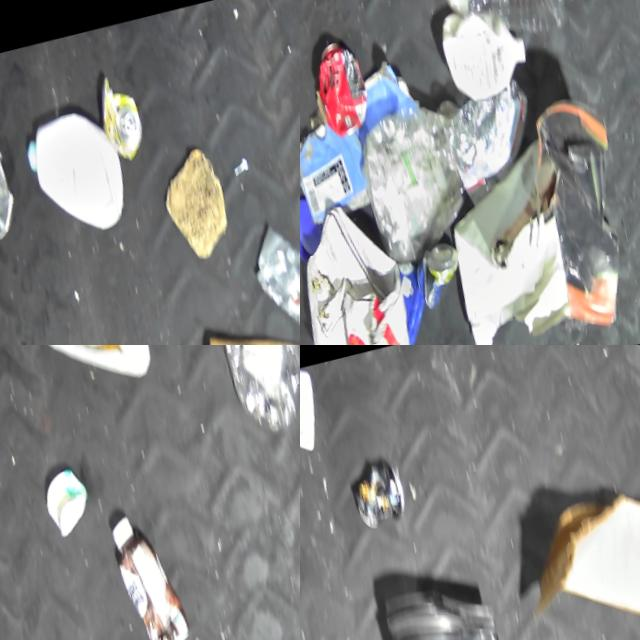can: (309, 35, 382, 137), (88, 67, 155, 166), (347, 455, 414, 528), (418, 235, 479, 314), (0, 133, 29, 247)
milk_jug: (12, 95, 143, 246), (434, 0, 541, 104), (21, 345, 166, 401)
non_white_jug: (300, 54, 443, 220), (370, 573, 544, 640)
plastic_bottle: (184, 345, 300, 449), (412, 0, 581, 62)
